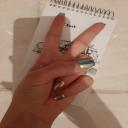PeaceSign: (16, 11, 106, 123)
